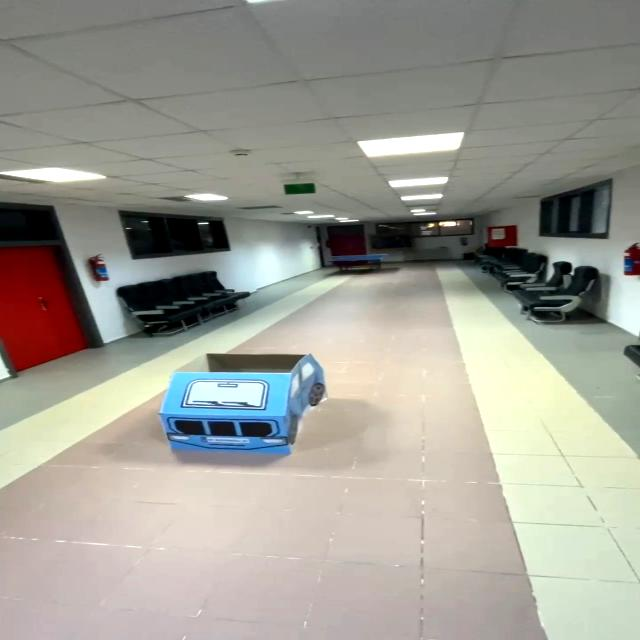blue_car: (135, 340, 347, 483)
